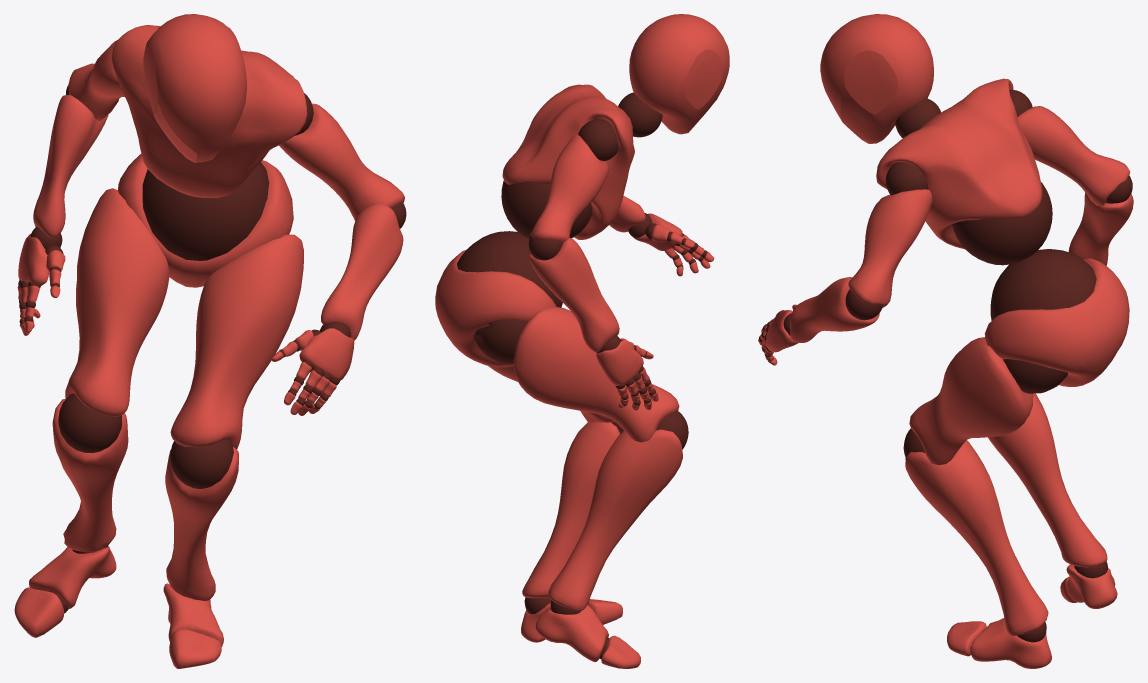
3 renders of one model, left to right at view 1: azimuth 30°, elevation 25°; view 2: azimuth 150°, elevation 25°; view 3: azimuth 270°, elevation 25°, orthographic. The views are drawn at different scales.
Parts seen in each view (by area): view 1: Beta_Surface, Beta_Joints; view 2: Beta_Surface, Beta_Joints; view 3: Beta_Surface, Beta_Joints.
Boxes of the visible parts, <box> form: Beta_Surface: <box>14,14,404,668</box>; Beta_Joints: <box>18,85,406,613</box>; Beta_Surface: <box>435,14,729,668</box>; Beta_Joints: <box>457,92,707,659</box>; Beta_Surface: <box>758,14,1133,668</box>; Beta_Joints: <box>759,89,1132,642</box>.
Bounding box in the file's own units: 0.5952 × 1.44 × 0.8008.
